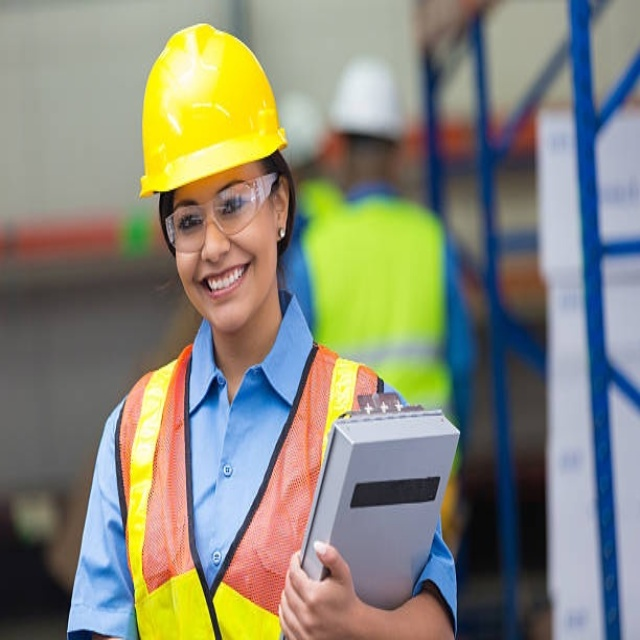Gafas: (165, 173, 278, 253)
Sin_guantes: (279, 540, 359, 640)
Sin_mascara: (191, 256, 257, 311)
